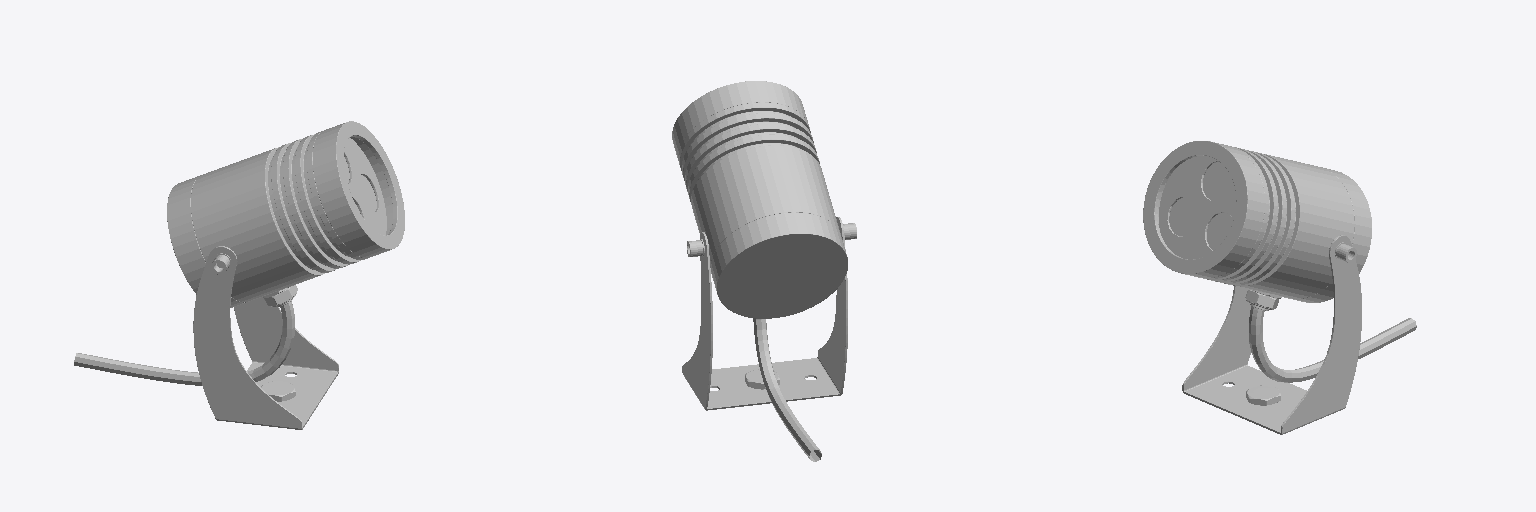
The model's file is Odeon Lamp.obj.
The picture shows the model from 3 angles: view 1: azimuth 30°, elevation 25°; view 2: azimuth 150°, elevation 25°; view 3: azimuth 270°, elevation 25°; orthographic projection.
Parts seen in each view (by area): view 1: Object019, bracket; view 2: Object019, bracket; view 3: Object019, bracket.
Part boxes in pixels (left/top/right/bottom): Object019: left=74, top=121, right=404, bottom=385; bracket: left=193, top=246, right=338, bottom=429; Object019: left=672, top=81, right=856, bottom=461; bracket: left=682, top=217, right=847, bottom=410; Object019: left=1143, top=141, right=1416, bottom=382; bracket: left=1182, top=235, right=1361, bottom=434.
Bounding box in the file's own units: 124 × 139 × 124.